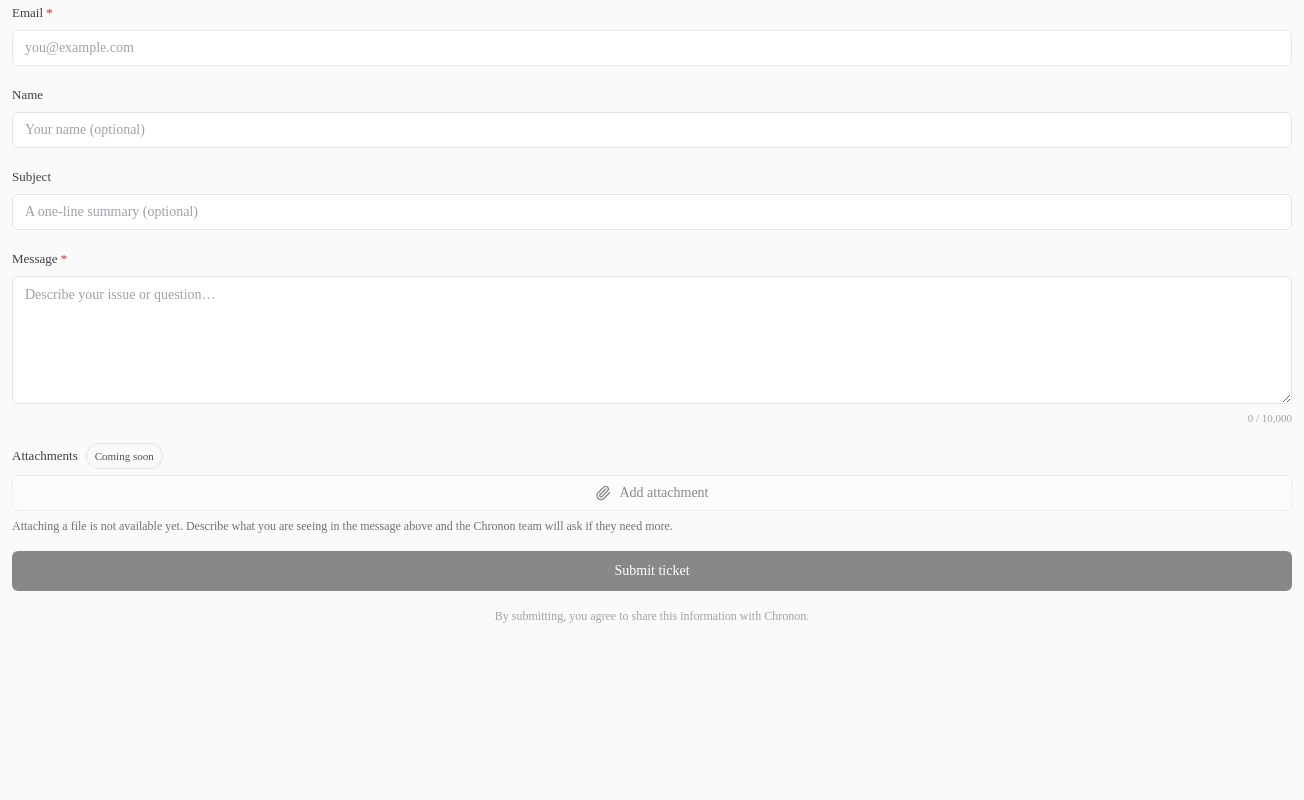
Scenario: SubmitTicketForm › shows a distinct reason for a 429 than for a 422
Type "ada@example.dev" into the field labelled "Email *". click: (652, 48)
box: [12,30,1292,66]
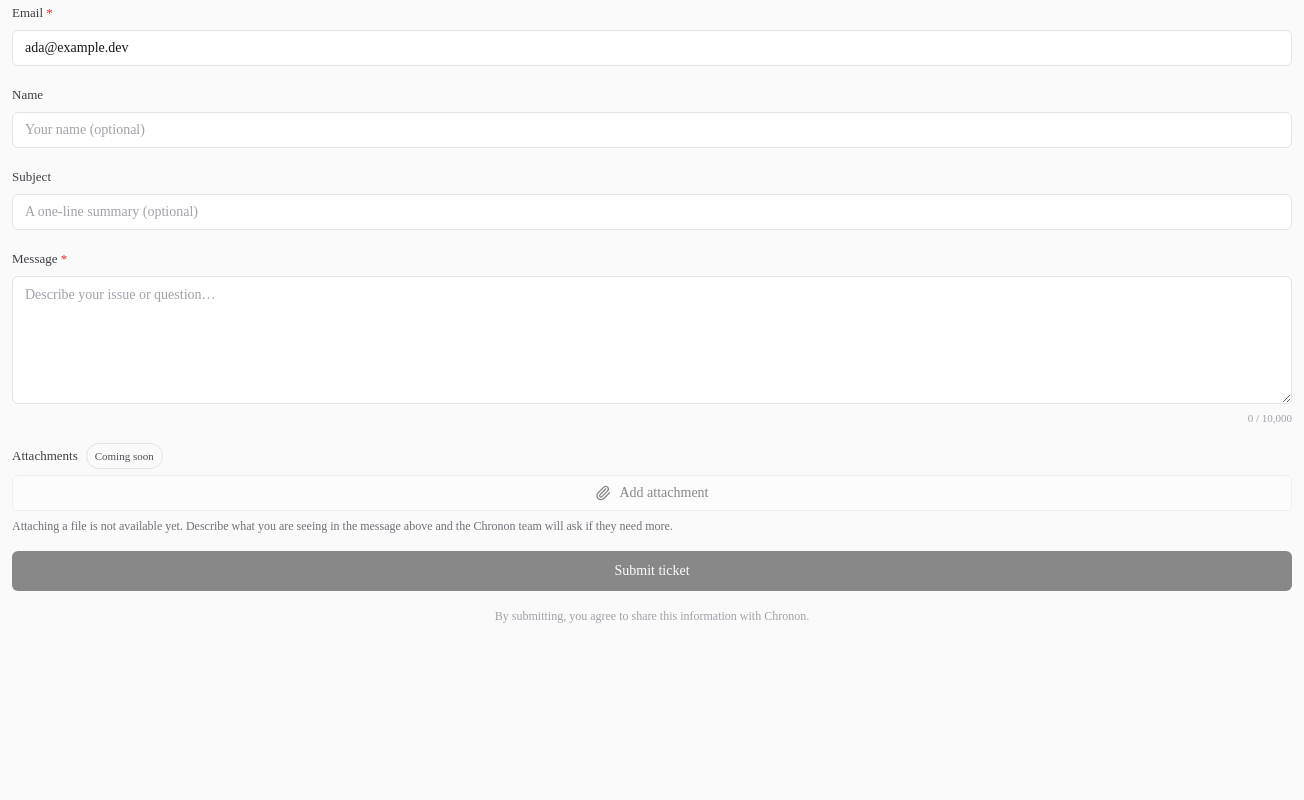
Type "Where is my order?" into the text box labelled "Message *". click: (652, 340)
box: [12,276,1292,404]
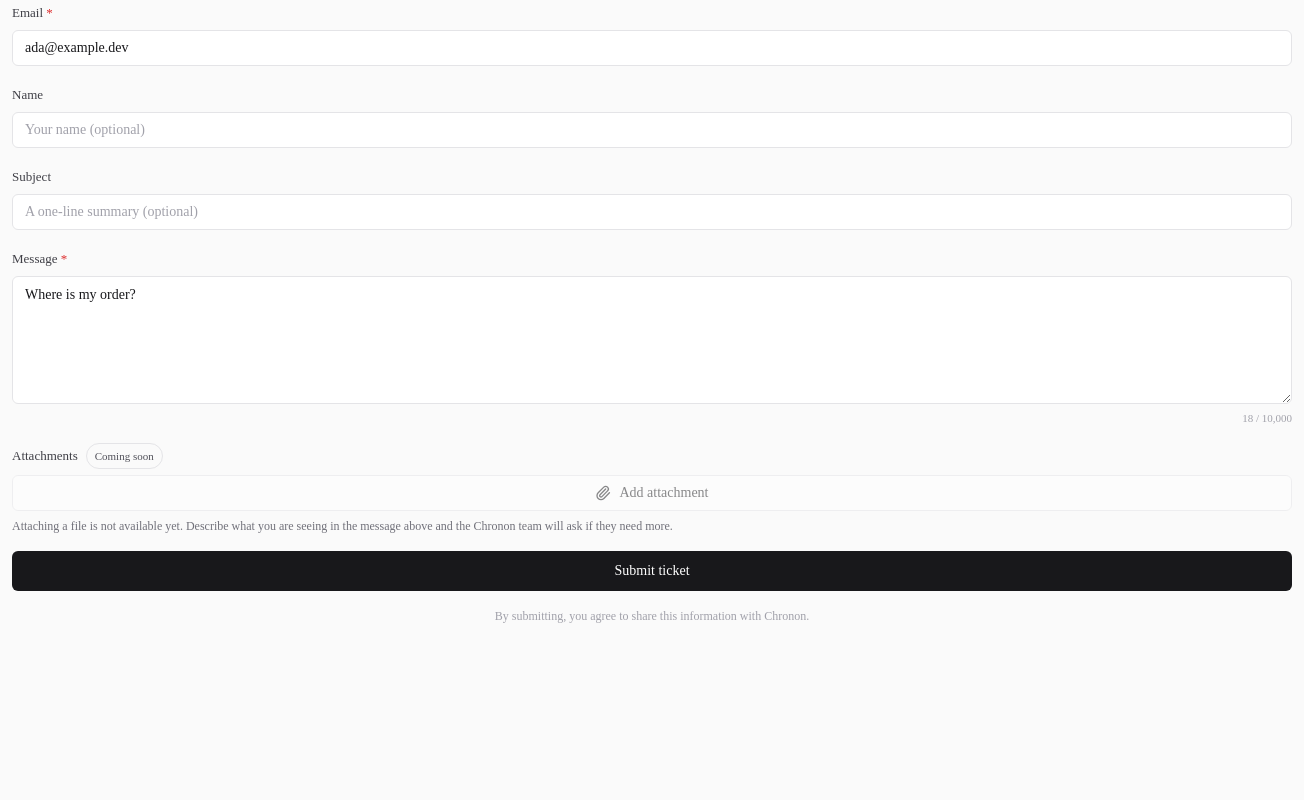
Click the button "Submit ticket". click: (652, 570)
box: [12,550,1292,590]
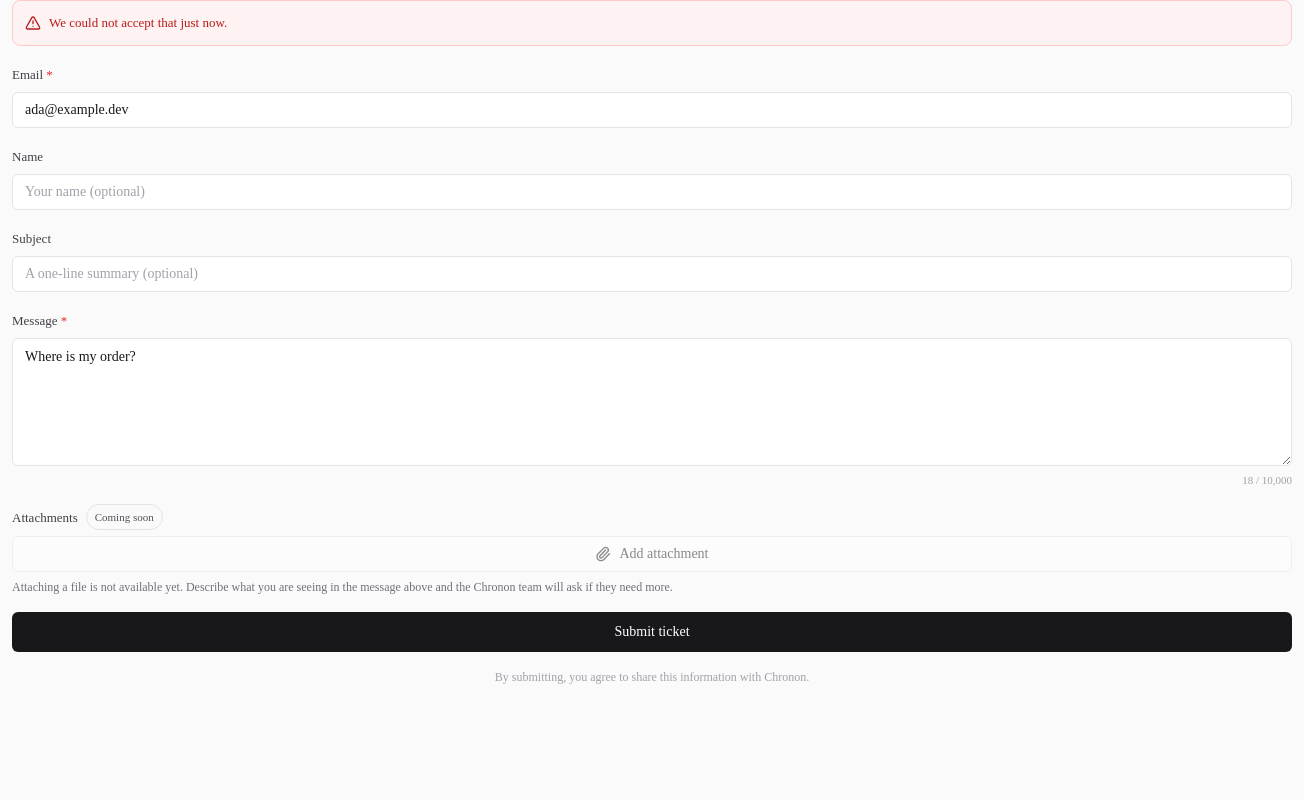
Now the text "We could not accept that just now." is shown, box [49,13,227,32]
